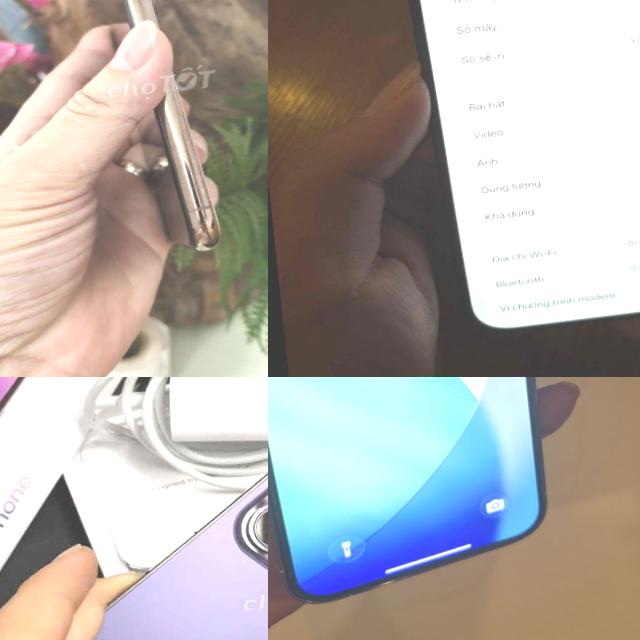gen_11: (73, 0, 231, 274)
gen_12_13: (268, 377, 570, 611)
gen_14: (0, 411, 268, 640)
gen_15: (386, 0, 640, 347)
